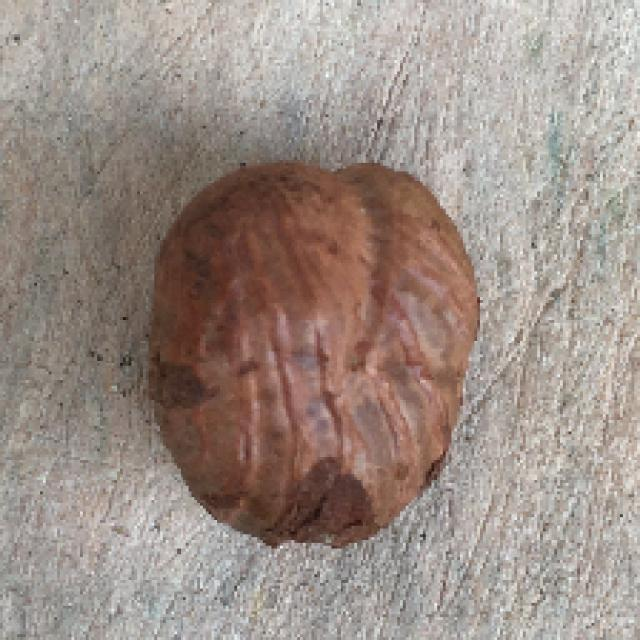hazelnut: (137, 149, 490, 557)
